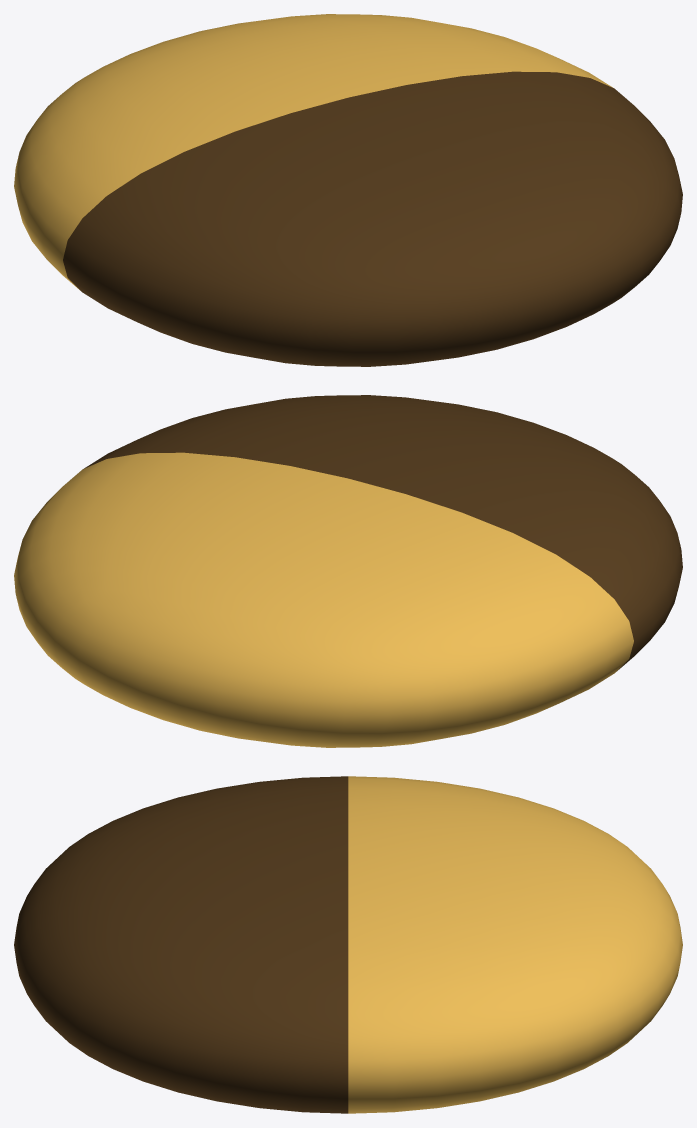
Rendered from SplitPea.glb.
3 views of the same model, one above another, from view 1: azimuth 30°, elevation 25°; view 2: azimuth 150°, elevation 25°; view 3: azimuth 270°, elevation 25° (orthographic).
Visible parts, largest first — view 1: Cube; view 2: Cube; view 3: Cube.
Part boxes in pixels (x1=…): Cube: x1=14, y1=14, x2=682, y2=366; Cube: x1=14, y1=395, x2=682, y2=747; Cube: x1=14, y1=776, x2=682, y2=1113.
Bounding box in the file's own units: 0.7635 × 0.2373 × 0.7868.
